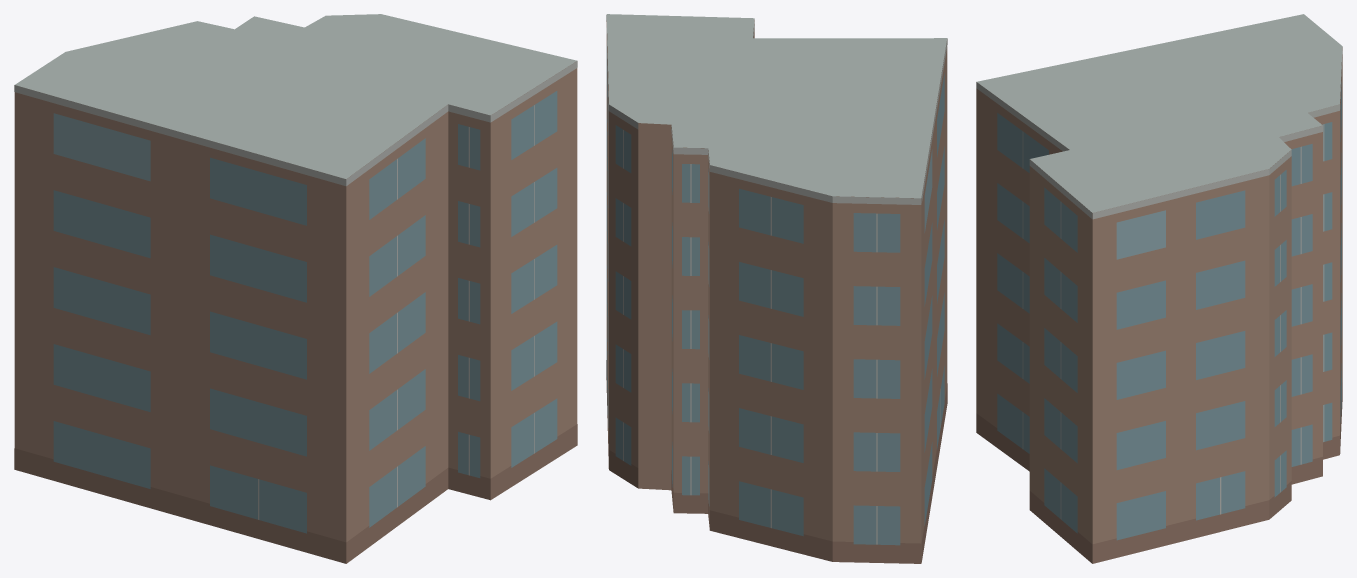
The model's file is survey-upis-32672440.glb.
3 views of the same model, side by side, from view 1: azimuth 30°, elevation 25°; view 2: azimuth 150°, elevation 25°; view 3: azimuth 270°, elevation 25° (orthographic). The views are drawn at different scales.
Visible parts, largest first — view 1: survey-upis-32672440.tmp; view 2: survey-upis-32672440.tmp; view 3: survey-upis-32672440.tmp.
Part boxes in pixels (x1=…): survey-upis-32672440.tmp: x1=14, y1=14, x2=577, y2=563; survey-upis-32672440.tmp: x1=606, y1=14, x2=947, y2=563; survey-upis-32672440.tmp: x1=976, y1=14, x2=1342, y2=563.
Bounding box in the file's own units: 16.06 × 13.2 × 12.49.
